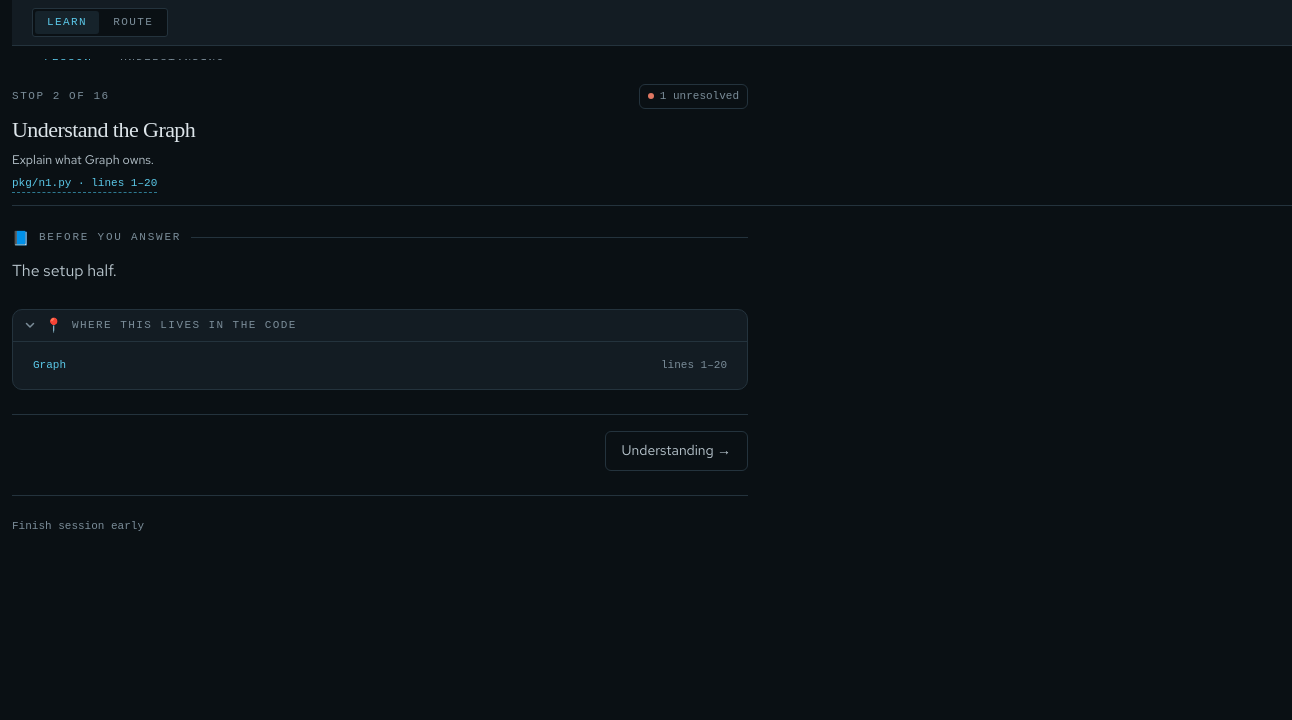
Test: the brief's counters cross to the surface that holds what they name › clicking `unresolved` from Lesson lands on Understanding
Check: the text "The setup half." is shown, box left=12, top=260, right=117, bottom=281
Click the button "1 unresolved" at (693, 96), box left=639, top=84, right=748, bottom=109
(page scrolled)
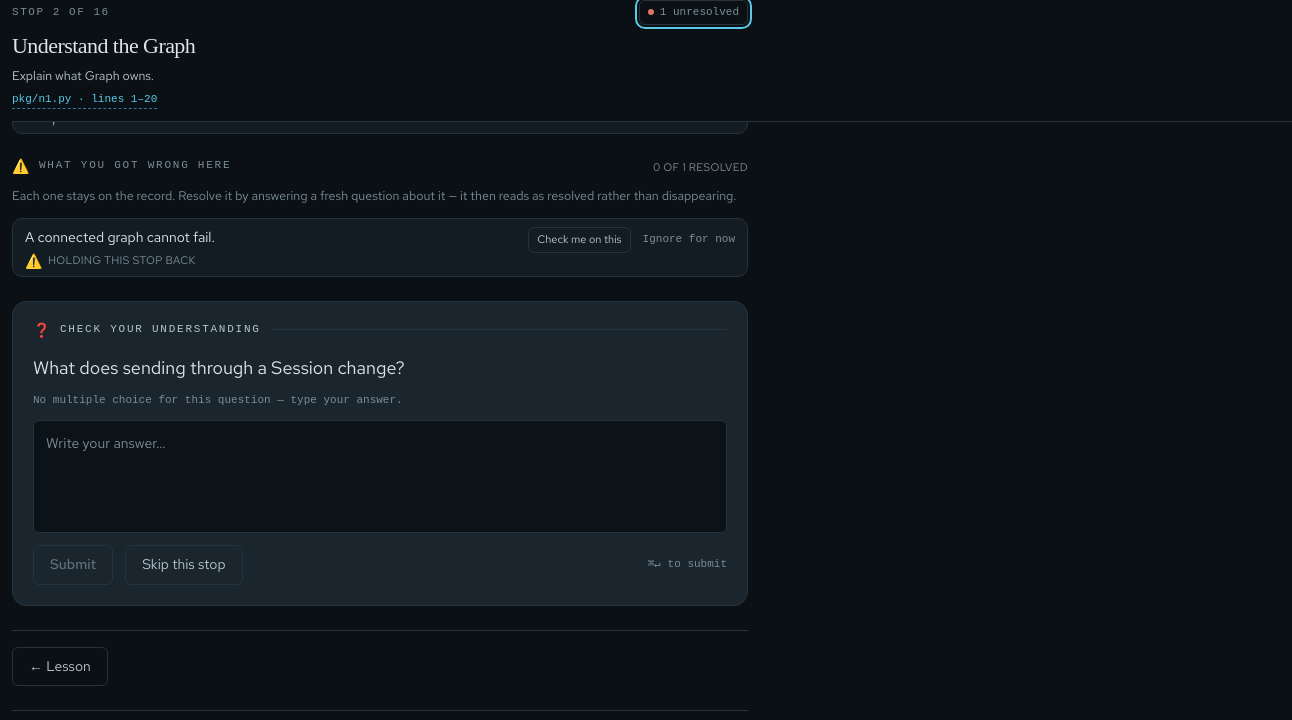
Check: the text "A connected graph cannot fail." is shown, box left=25, top=227, right=215, bottom=249
